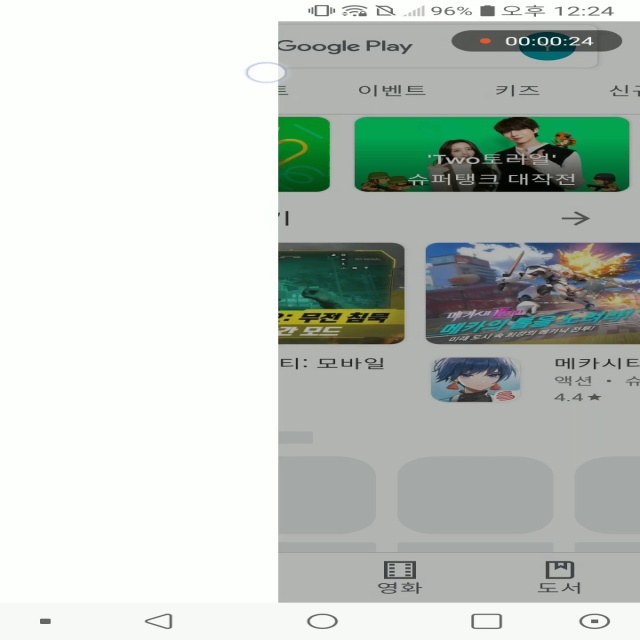Cursor: (244, 62, 288, 84)
